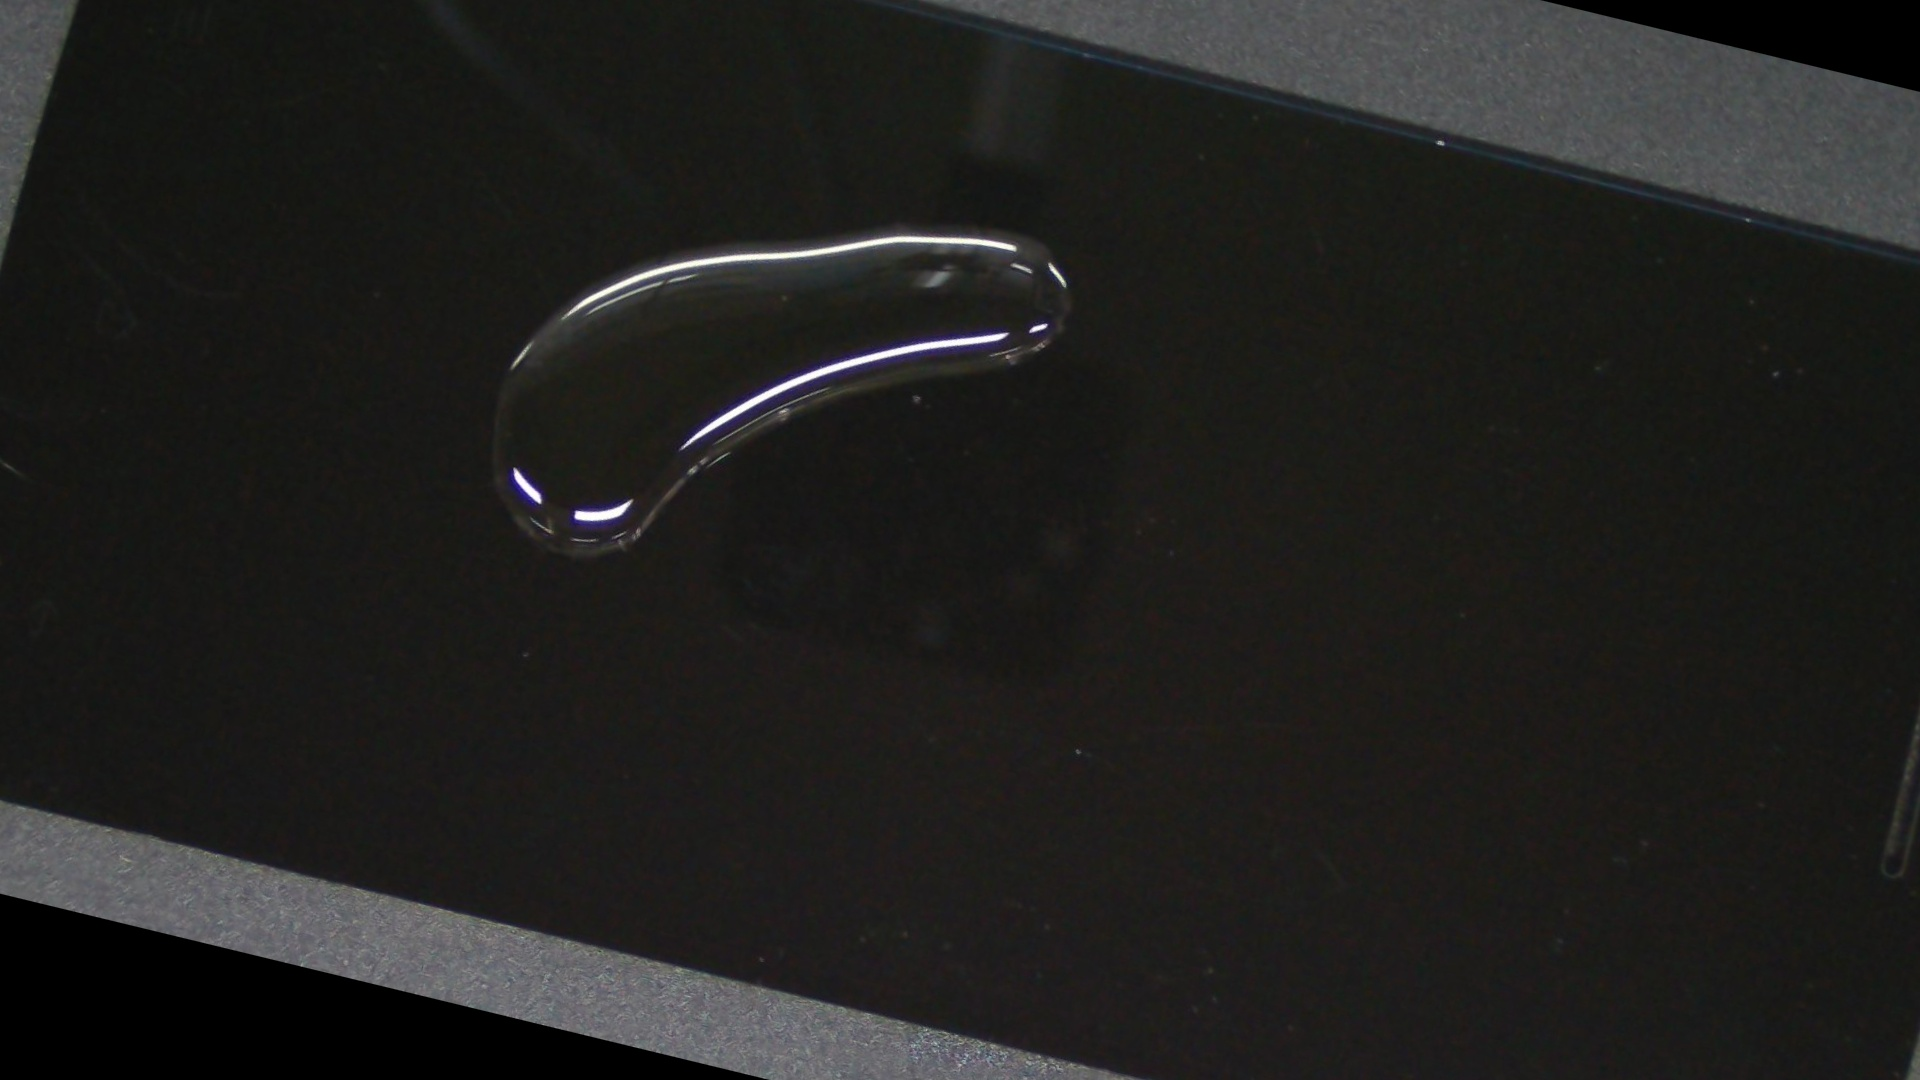oil: (451, 0, 1594, 530)
